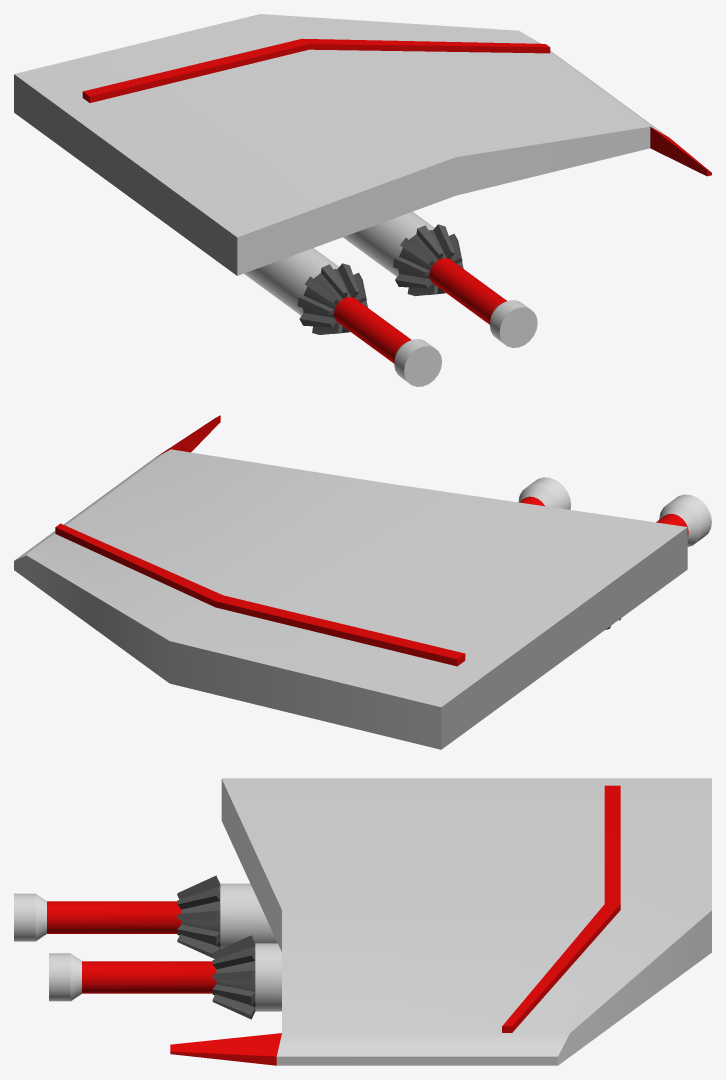
Rendered from LEFT_WING.fbx.
3 views of the same model, one above another, from view 1: azimuth 30°, elevation 25°; view 2: azimuth 150°, elevation 25°; view 3: azimuth 270°, elevation 25° (orthographic). The views are drawn at different scales.
Visible parts, largest first — view 1: RIGHT_WING; view 2: RIGHT_WING; view 3: RIGHT_WING.
Boxes of the visible parts, x1,y1,x2,y2 form: RIGHT_WING: (14,14,711,386); RIGHT_WING: (14,415,711,749); RIGHT_WING: (14,778,711,1065).
Bounding box in the file's own units: 467 × 121 × 562.
